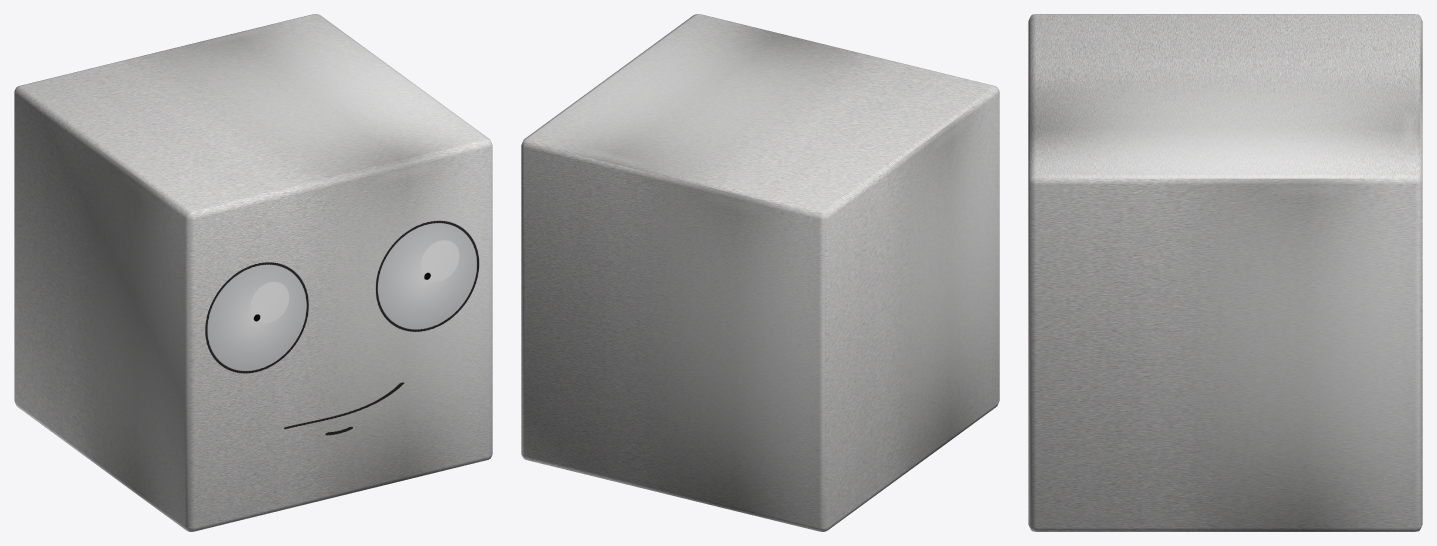
The model's file is Reflect.FBX.
3 views of the same model, side by side, from view 1: azimuth 30°, elevation 25°; view 2: azimuth 150°, elevation 25°; view 3: azimuth 270°, elevation 25° (orthographic). The views are drawn at different scales.
Parts seen in each view (by area): view 1: hooker; view 2: hooker; view 3: hooker.
Part boxes in pixels (left/top/right/bottom): hooker: left=14, top=14, right=492, bottom=531; hooker: left=521, top=14, right=999, bottom=531; hooker: left=1028, top=14, right=1422, bottom=531.
Size of the model in its own units: 100 by 100 by 100.
Materials: 2 (2 with a texture image).
